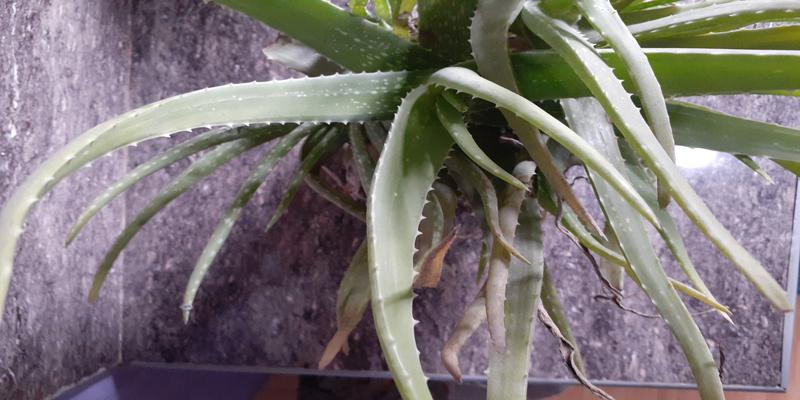Aloevera: (185, 6, 745, 305)
